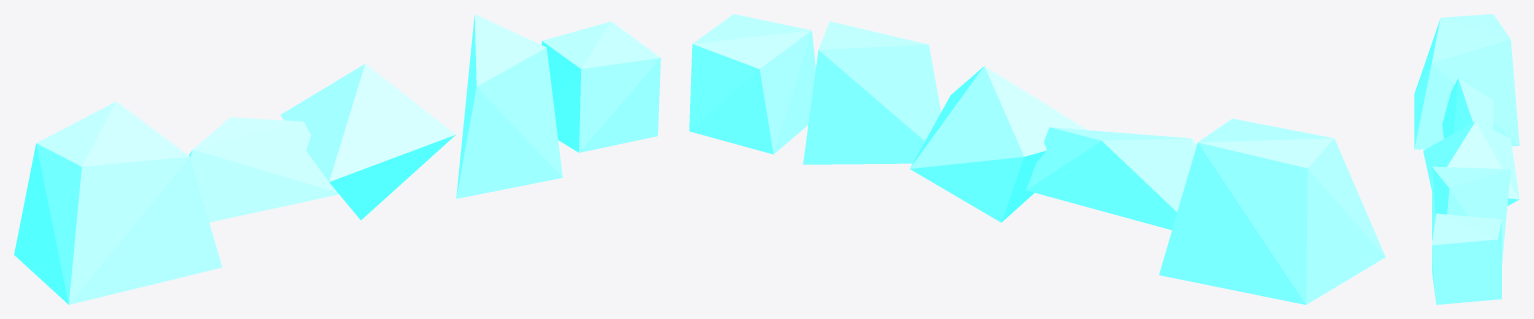
The model's file is CHR_VOXEL_DEBRIS.glb.
3 renders of one model, left to right at view 1: azimuth 30°, elevation 25°; view 2: azimuth 150°, elevation 25°; view 3: azimuth 270°, elevation 25°, orthographic. The views are drawn at different scales.
Parts seen in each view (by area): view 1: Mesh_Voxel_01, Mesh_Voxel_04, Mesh_Voxel_03, Mesh_Voxel_05, Mesh_Voxel_02; view 2: Mesh_Voxel_01, Mesh_Voxel_04, Mesh_Voxel_05, Mesh_Voxel_03, Mesh_Voxel_02; view 3: Mesh_Voxel_01, Mesh_Voxel_05, Mesh_Voxel_04, Mesh_Voxel_03, Mesh_Voxel_02.
Part boxes in pixels (x1,y1,x2,y2): Mesh_Voxel_01: (14, 101, 222, 304); Mesh_Voxel_04: (456, 14, 562, 198); Mesh_Voxel_03: (280, 64, 455, 219); Mesh_Voxel_05: (541, 21, 660, 152); Mesh_Voxel_02: (189, 117, 338, 222); Mesh_Voxel_01: (1159, 118, 1385, 304); Mesh_Voxel_04: (803, 21, 940, 164); Mesh_Voxel_05: (689, 14, 815, 154); Mesh_Voxel_03: (910, 66, 1087, 222); Mesh_Voxel_02: (1026, 127, 1196, 229); Mesh_Voxel_01: (1414, 14, 1519, 149); Mesh_Voxel_05: (1432, 213, 1501, 304); Mesh_Voxel_04: (1432, 166, 1510, 263); Mesh_Voxel_03: (1423, 121, 1519, 205); Mesh_Voxel_02: (1442, 78, 1493, 138).
Size of the model in its own units: 0.59 by 0.14 by 0.12.
